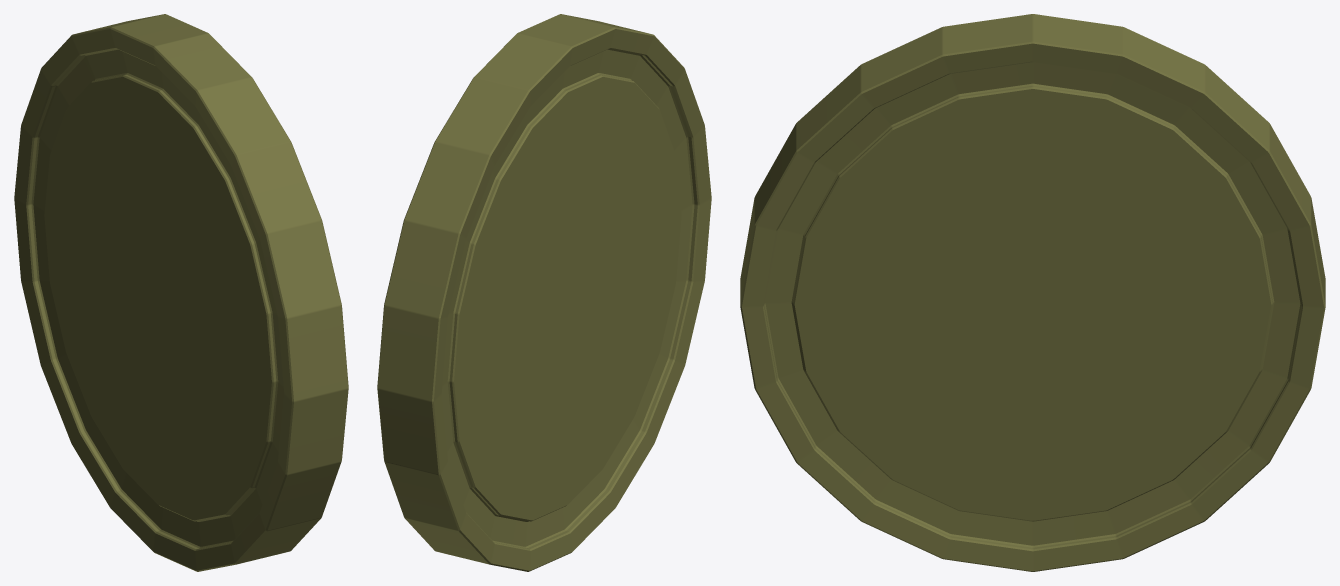
Rendered from Coin.fbx.
3 renders of one model, left to right at view 1: azimuth 30°, elevation 25°; view 2: azimuth 150°, elevation 25°; view 3: azimuth 270°, elevation 25°, orthographic. The views are drawn at different scales.
Parts seen in each view (by area): view 1: Coin; view 2: Coin; view 3: Coin.
Boxes of the visible parts, x1=… form: Coin: x1=14, y1=14, x2=348, y2=571; Coin: x1=377, y1=14, x2=711, y2=571; Coin: x1=740, y1=14, x2=1325, y2=571.
Bounding box in the file's own units: 0.1313 × 1.12 × 1.12.
